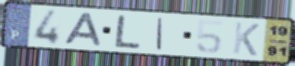4: (31, 8, 62, 46)
5: (195, 18, 226, 55)
A: (62, 11, 104, 48)
I: (155, 16, 165, 51)
K: (231, 21, 262, 58)
L: (113, 14, 143, 50)
